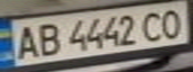2: (118, 11, 142, 46)
4: (63, 16, 87, 52), (84, 13, 106, 51), (103, 12, 124, 48)
A: (9, 21, 42, 61)
B: (33, 20, 63, 57)
C: (139, 8, 169, 43)
O: (157, 6, 187, 39)
